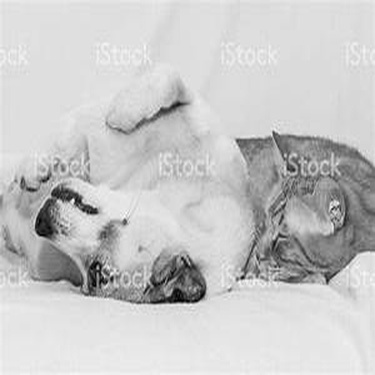cat: (232, 131, 371, 285)
dog: (1, 61, 255, 305)
